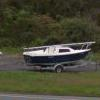Boat: (17, 41, 91, 71)
